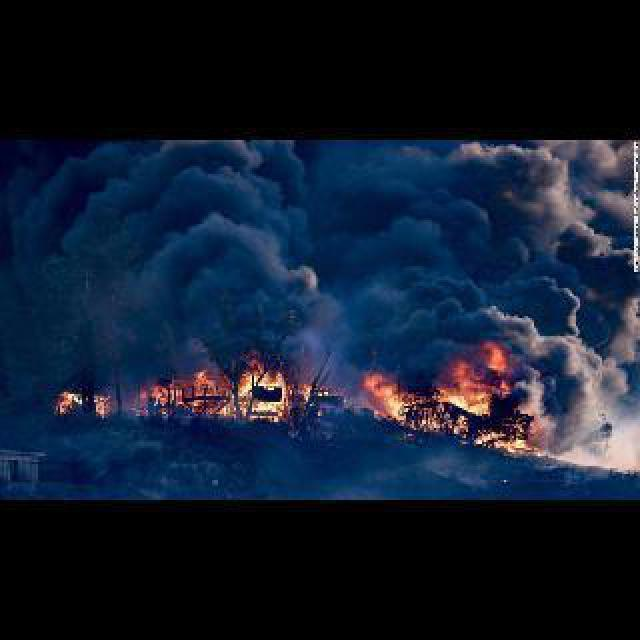Fire: (360, 358, 556, 456), (140, 358, 306, 432), (50, 382, 112, 420)
Smoke: (2, 140, 638, 378)
